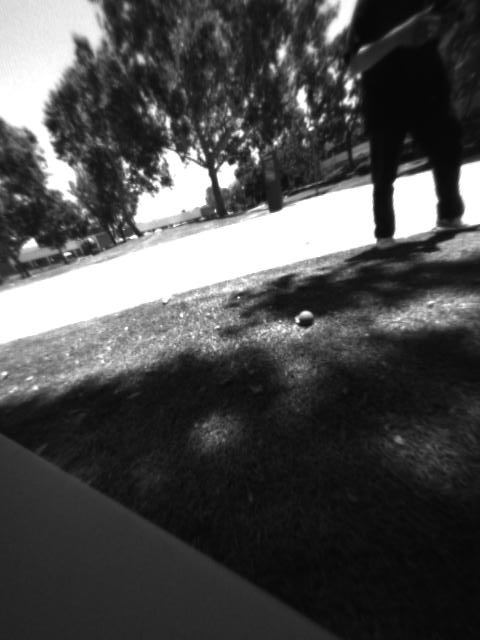dogtoy: (287, 301, 324, 338)
